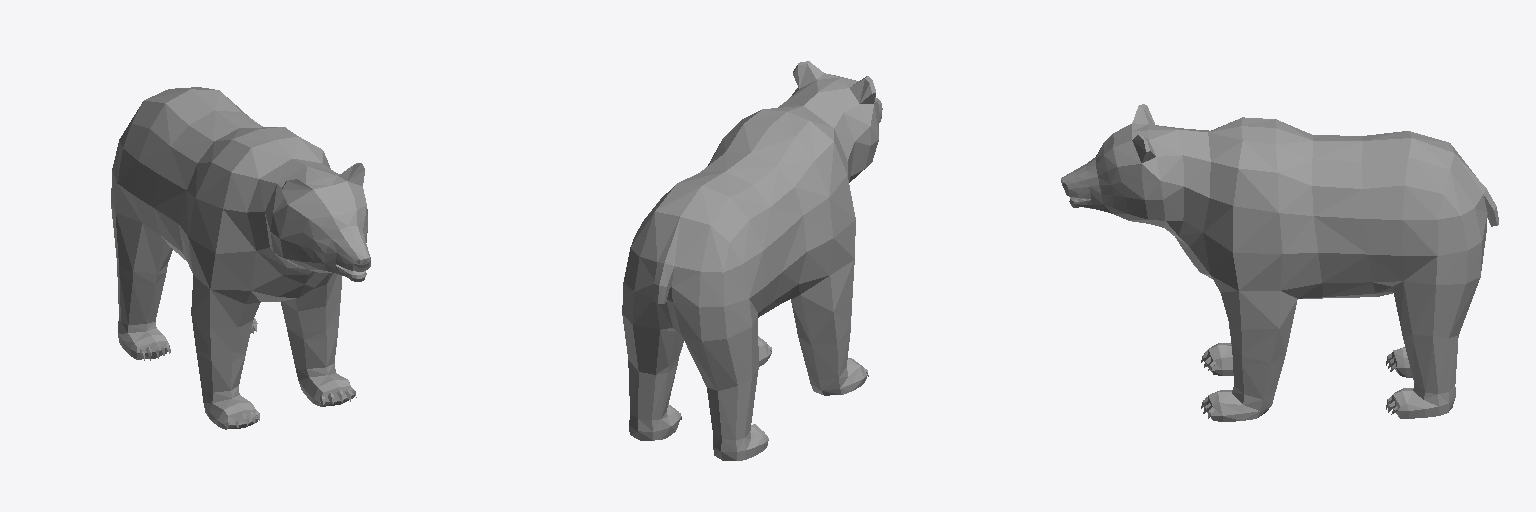
File: bear.obj
3 views of the same model, side by side, from view 1: azimuth 30°, elevation 25°; view 2: azimuth 150°, elevation 25°; view 3: azimuth 270°, elevation 25° (orthographic).
Visible parts, largest first — view 1: bear____N; view 2: bear____N; view 3: bear____N.
Boxes of the visible parts, x1=… form: bear____N: x1=111, y1=87, x2=370, y2=429; bear____N: x1=622, y1=61, x2=882, y2=460; bear____N: x1=1061, y1=104, x2=1498, y2=421.
Size of the model in its own units: 1.06 by 2.03 by 2.97.